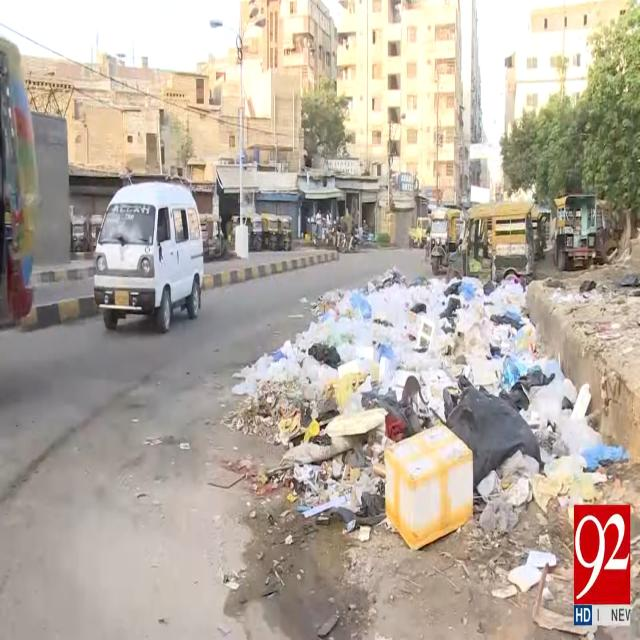high trash: (234, 269, 628, 549)
less trash: (492, 551, 588, 636), (619, 273, 640, 287), (579, 280, 596, 293)
